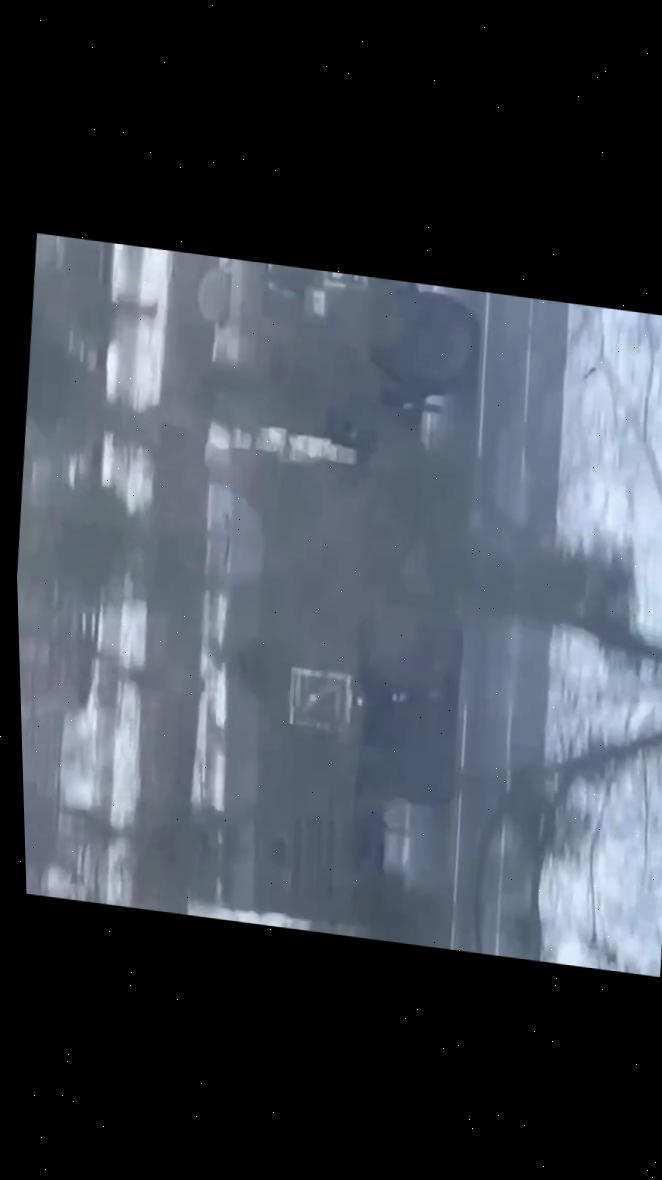truck: (146, 252, 521, 953)
